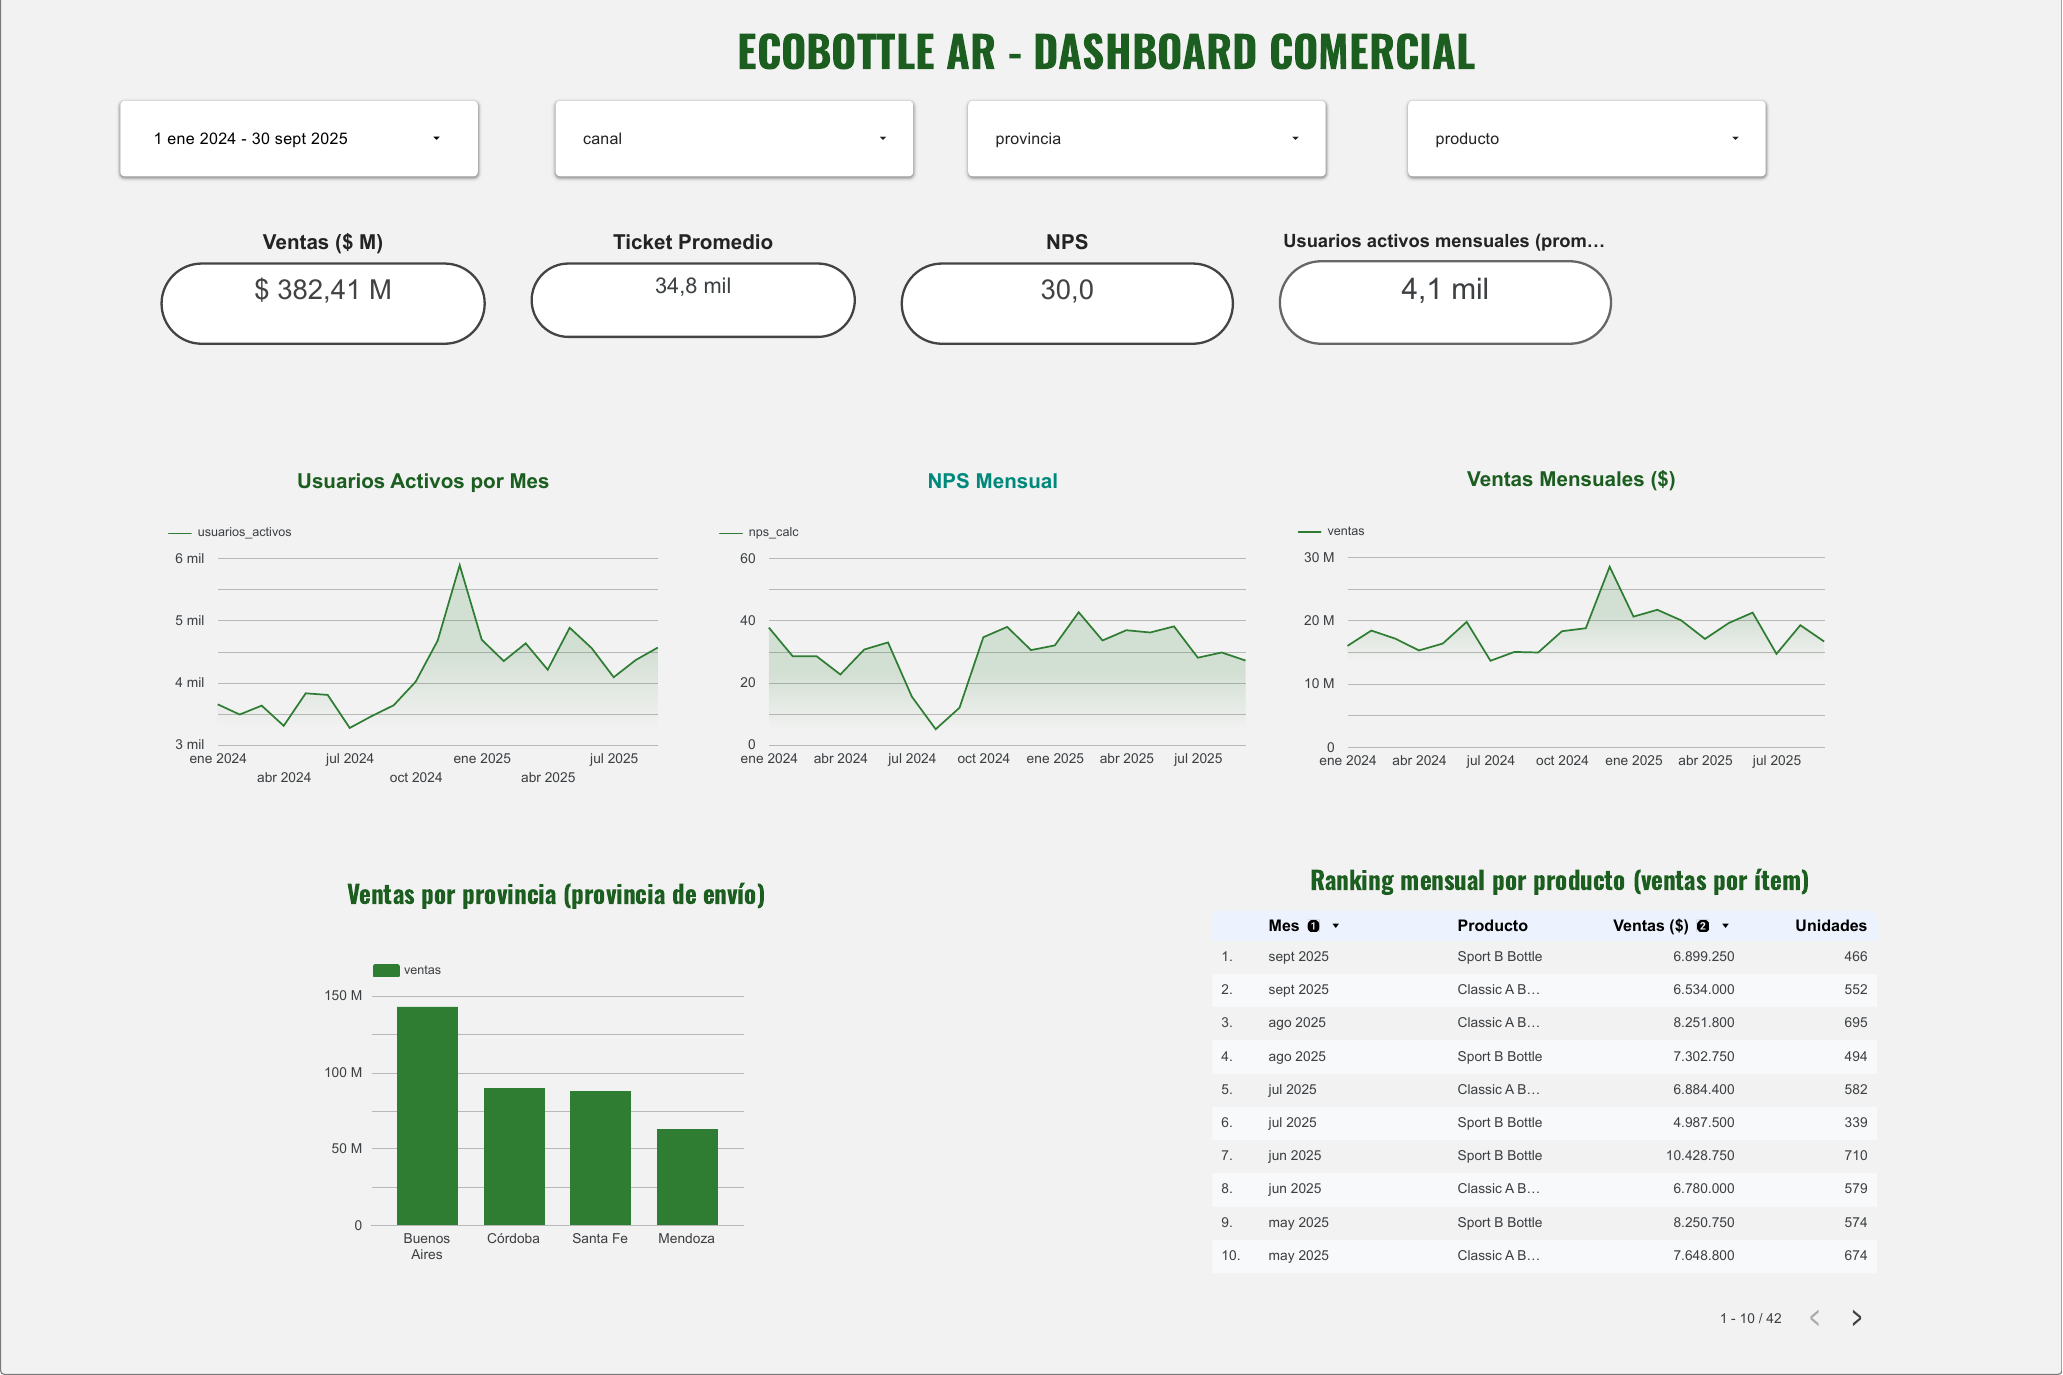

The page's visual inventory and layout, read from the dashboard file:
{"tool":"powerbi","page":{"name":"Página 1","canvas":[1920,1080],"ordinal":0},"visuals":[{"type":"cardVisual","title":"VENTAS","fields":{"Data":["fact_sales_order.Ventas ($M)"]},"box":[42.7,167.1,337.9,128.1],"z":1},{"type":"lineChart","title":"Ventas por Mes","fields":{"Category":["dim_date.year_month"],"Y":["fact_sales_order.Ventas"]},"box":[42.7,363.9,648,286],"z":2},{"type":"barChart","title":"Ventas por Provincia","fields":{"Category":["dim_province.name"],"Y":["fact_sales_order.Ventas"]},"box":[729.7,363.9,570.1,286],"z":3},{"type":"lineChart","title":"Evolución del NPS","fields":{"Category":["dim_date.year_month"],"Y":["fact_nps.NPS"]},"box":[42.7,714.9,636.9,258.1],"z":4},{"type":"lineChart","title":"Usuarios activos por mes","fields":{"Category":["dim_date.year_month"],"Y":["fact_web_session.Usuarios Activos"]},"box":[727.9,714.9,570.1,273],"z":5},{"type":"cardVisual","fields":{"Data":["fact_sales_order.Ticket Promedio ($K)"]},"box":[486.5,167.1,337.9,128.1],"z":6},{"type":"cardVisual","fields":{"Data":["fact_web_session.Usuarios Activos (K)"]},"box":[960,167.1,337.9,128.1],"z":7},{"type":"cardVisual","fields":{"Data":["fact_nps.NPS (texto)"]},"box":[1413.1,167.1,337.9,128.1],"z":8},{"type":"tableEx","title":"Ranking Mensual por Producto","fields":{"Values":["dim_date.year_month","dim_product.name","fact_sales_item.Ventas Items","fact_sales_item.Unidades Vendidas","fact_sales_item.Ranking Producto"]},"box":[1318.4,363.9,583.1,642.5],"z":10},{"type":"slicer","fields":{"Values":["dim_province.name"]},"box":[621.3,25.5,209.8,65],"z":11},{"type":"slicer","fields":{"Values":["dim_date.full_date"]},"box":[857.4,25.5,273,154],"z":12},{"type":"slicer","fields":{"Values":["dim_channel.name"]},"box":[1129.8,29.8,323.1,76.1],"z":13},{"type":"slicer","fields":{"Values":["dim_product.name"]},"box":[1519.1,25.5,337.9,78],"z":14}]}

Visuals, with their boxes on the page's 1920x1080 design canvas (x1, y1, x2, y2). These are canvas units, not pixel positions in the 2063x1375 screenshot, which may show the page scaled, cropped or inside an application window:
"VENTAS" cardVisual: l=43, t=167, r=381, b=295
"Ventas por Mes" lineChart: l=43, t=364, r=691, b=650
"Ventas por Provincia" barChart: l=730, t=364, r=1300, b=650
"Evolución del NPS" lineChart: l=43, t=715, r=680, b=973
"Usuarios activos por mes" lineChart: l=728, t=715, r=1298, b=988
cardVisual - fact_sales_order.Ticket Promedio ($K): l=486, t=167, r=824, b=295
cardVisual - fact_web_session.Usuarios Activos (K): l=960, t=167, r=1298, b=295
cardVisual - fact_nps.NPS (texto): l=1413, t=167, r=1751, b=295
"Ranking Mensual por Producto" tableEx: l=1318, t=364, r=1902, b=1006
slicer - dim_province.name: l=621, t=26, r=831, b=90
slicer - dim_date.full_date: l=857, t=26, r=1130, b=180
slicer - dim_channel.name: l=1130, t=30, r=1453, b=106
slicer - dim_product.name: l=1519, t=26, r=1857, b=104
